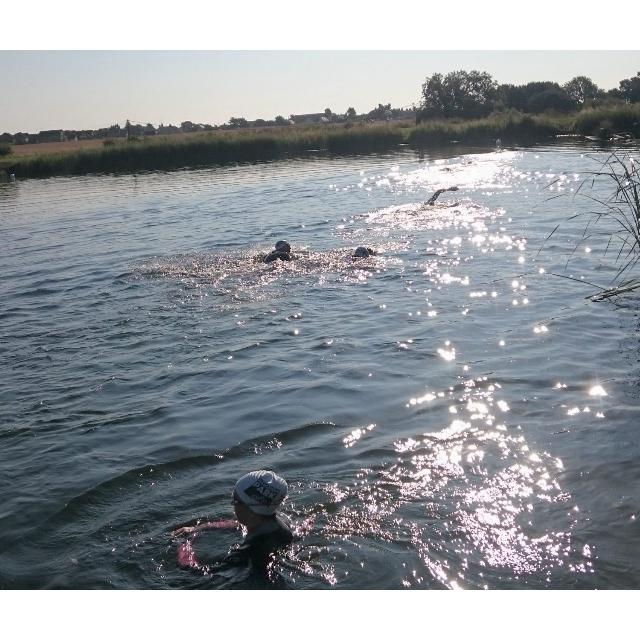human: (164, 462, 303, 587), (275, 235, 307, 268), (425, 181, 459, 210)
